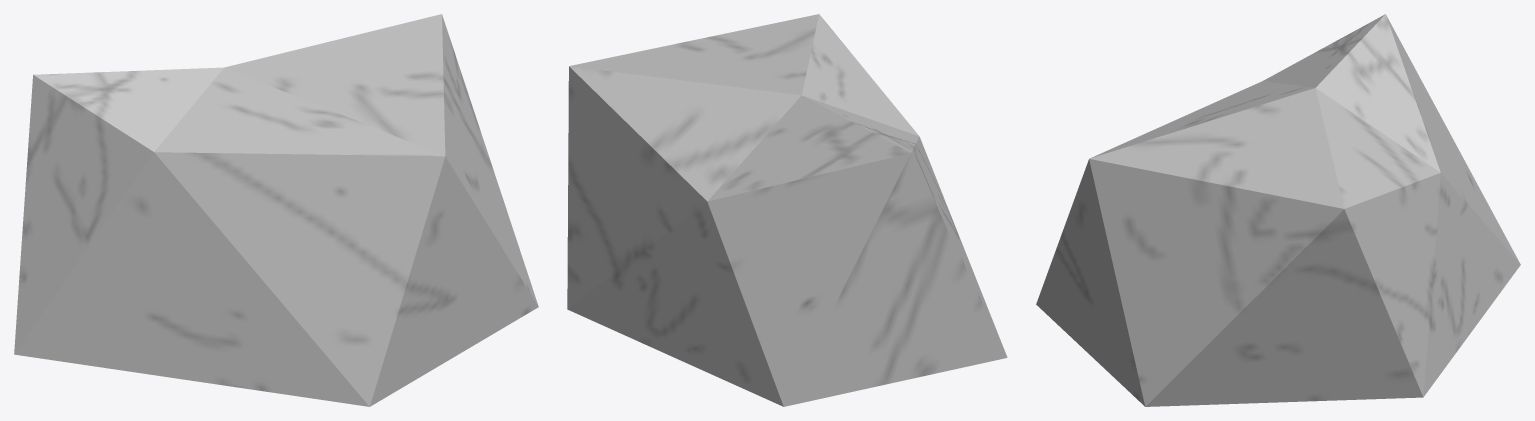
File: rock_4.glb
3 views of the same model, side by side, from view 1: azimuth 30°, elevation 25°; view 2: azimuth 150°, elevation 25°; view 3: azimuth 270°, elevation 25° (orthographic). The views are drawn at different scales.
Visible parts, largest first — view 1: Icosphere.003; view 2: Icosphere.003; view 3: Icosphere.003.
Boxes of the visible parts, left/top/right/bottom form: Icosphere.003: left=14, top=14, right=538, bottom=406; Icosphere.003: left=567, top=14, right=1007, bottom=406; Icosphere.003: left=1036, top=14, right=1520, bottom=406.
Size of the model in its own units: 0.5132 by 0.2593 by 0.5094.
1 material, 1 textured.
